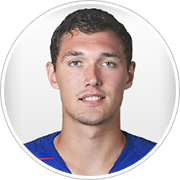face: (41, 43, 138, 119)
